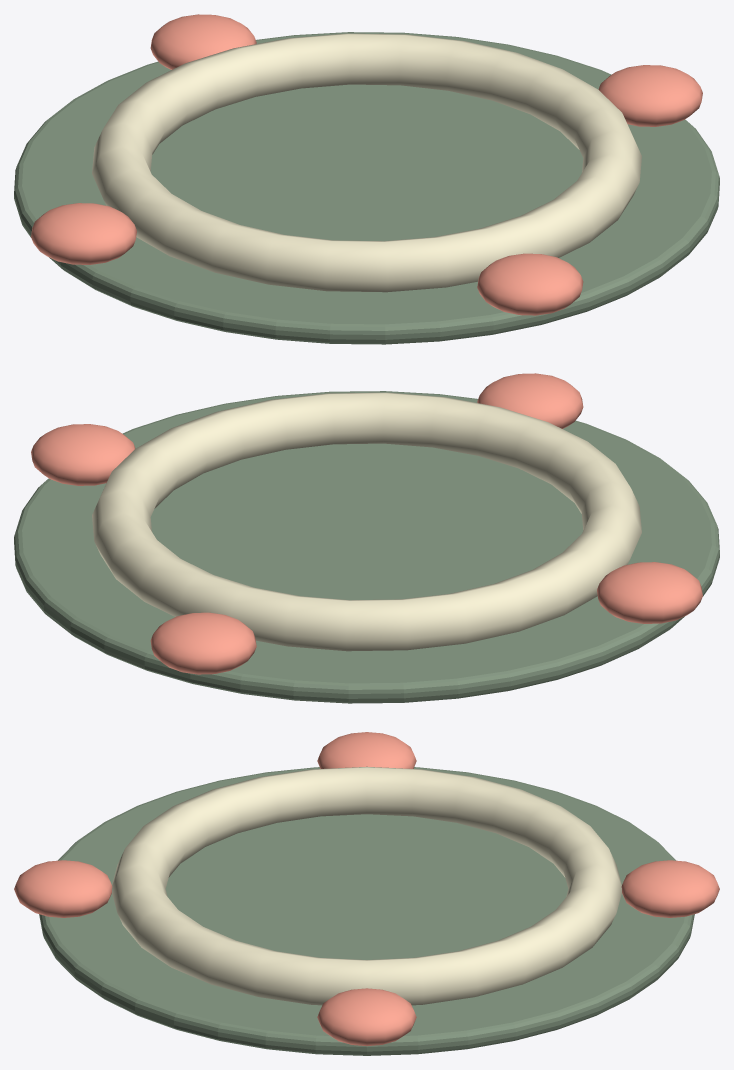
Rendered from rainforest_goal.glb.
The picture shows the model from 3 angles, top to bottom: view 1: azimuth 30°, elevation 25°; view 2: azimuth 150°, elevation 25°; view 3: azimuth 270°, elevation 25°; orthographic projection. The views are drawn at different scales.
Parts seen in each view (by area): view 1: Batched V2 rainforest stone, Batched V2 rainforest ivory, Batched V2 rainforest warm; view 2: Batched V2 rainforest stone, Batched V2 rainforest ivory, Batched V2 rainforest warm; view 3: Batched V2 rainforest stone, Batched V2 rainforest ivory, Batched V2 rainforest warm.
Part boxes in pixels (left/top/right/bottom): Batched V2 rainforest stone: left=14, top=32, right=719, bottom=344; Batched V2 rainforest ivory: left=92, top=33, right=641, bottom=292; Batched V2 rainforest warm: left=31, top=14, right=702, bottom=315; Batched V2 rainforest stone: left=14, top=391, right=719, bottom=703; Batched V2 rainforest ivory: left=92, top=392, right=641, bottom=651; Batched V2 rainforest warm: left=31, top=373, right=702, bottom=674; Batched V2 rainforest stone: left=39, top=767, right=694, bottom=1055; Batched V2 rainforest ivory: left=112, top=766, right=621, bottom=1005; Batched V2 rainforest warm: left=14, top=732, right=719, bottom=1046.
Bounding box in the file's own units: 1.42 × 0.123 × 1.42.
